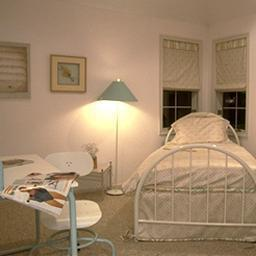Cama: (134, 117, 255, 241)
